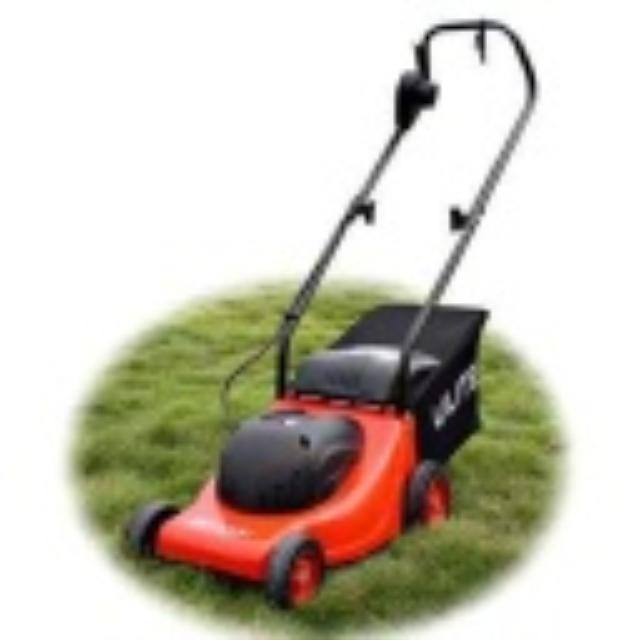Rotary-Mower: (120, 14, 540, 610)
